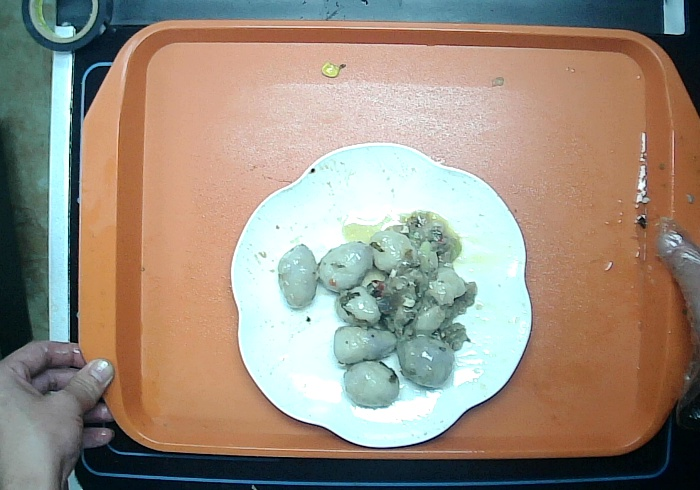HZYJPL-Bai_Se_Hua_Duo_Wan: (215, 125, 547, 456)
